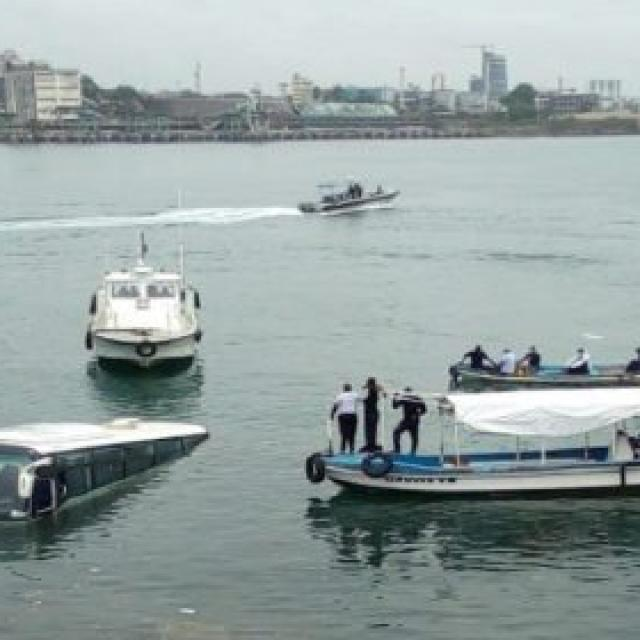houseboat: (74, 254, 206, 374)
